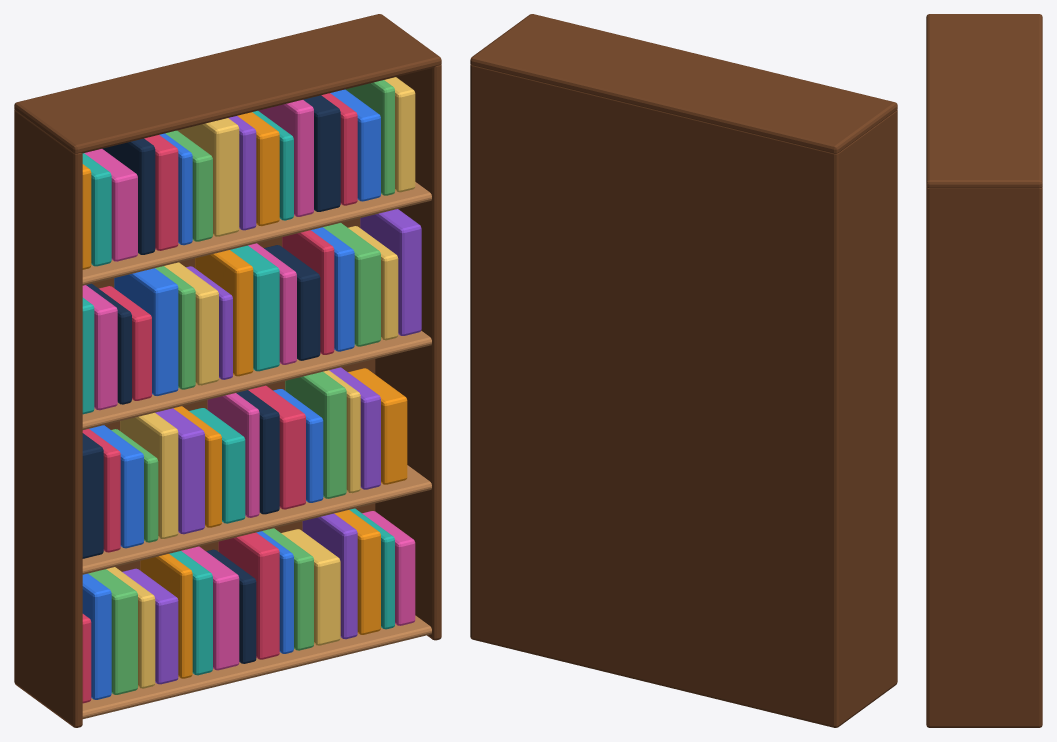
File: bookshelf.glb
3 renders of one model, left to right at view 1: azimuth 30°, elevation 25°; view 2: azimuth 150°, elevation 25°; view 3: azimuth 270°, elevation 25°, orthographic. The views are drawn at different scales.
Visible parts, largest first — view 1: bookshelf; view 2: bookshelf; view 3: bookshelf.
Part boxes in pixels (left/top/right/bottom): bookshelf: left=14, top=14, right=441, bottom=727; bookshelf: left=470, top=14, right=897, bottom=727; bookshelf: left=926, top=14, right=1042, bottom=727.
Bounding box in the file's own units: 1.2 × 1.81 × 0.35.
